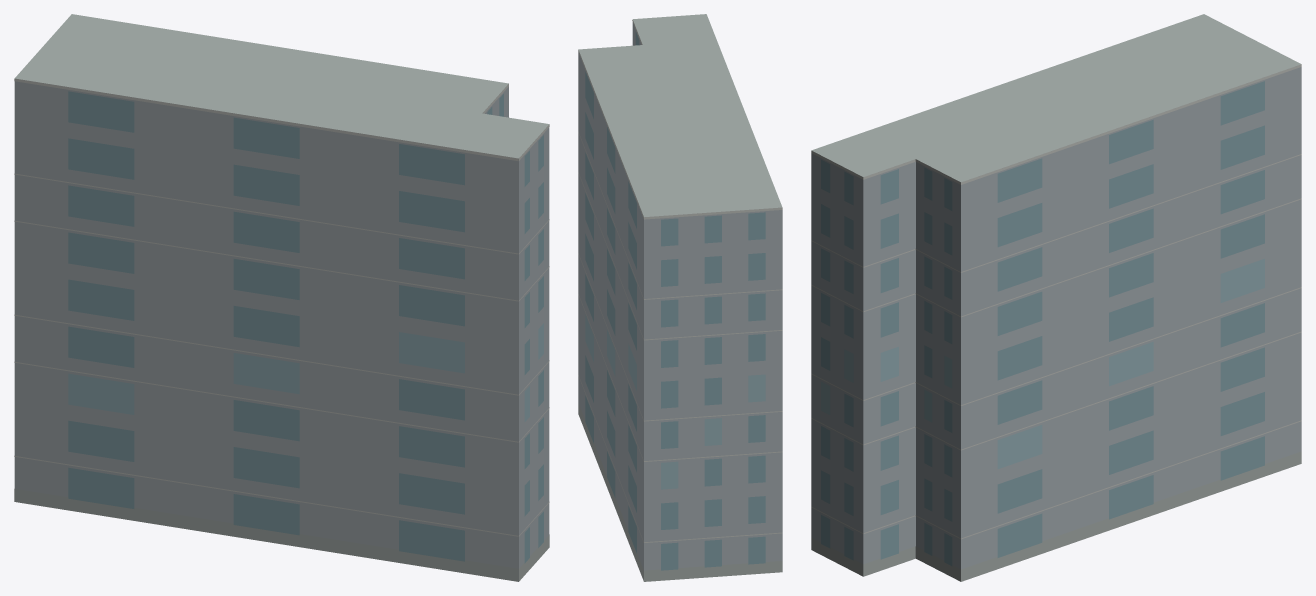
The model's file is residential-20e29a8e-cfb6-4a9a-b1a4-b8a1e3995ba8.glb.
3 views of the same model, side by side, from view 1: azimuth 30°, elevation 25°; view 2: azimuth 150°, elevation 25°; view 3: azimuth 270°, elevation 25° (orthographic). The views are drawn at different scales.
Visible parts, largest first — view 1: residential-20e29a8e-cfb6-4a9a-b1a4-b8a1e3995ba8.tmp; view 2: residential-20e29a8e-cfb6-4a9a-b1a4-b8a1e3995ba8.tmp; view 3: residential-20e29a8e-cfb6-4a9a-b1a4-b8a1e3995ba8.tmp.
Part boxes in pixels (bbox=[...]): residential-20e29a8e-cfb6-4a9a-b1a4-b8a1e3995ba8.tmp: bbox=[14, 14, 549, 581]; residential-20e29a8e-cfb6-4a9a-b1a4-b8a1e3995ba8.tmp: bbox=[578, 14, 782, 581]; residential-20e29a8e-cfb6-4a9a-b1a4-b8a1e3995ba8.tmp: bbox=[811, 14, 1301, 581].
Bounding box in the file's own units: 33.46 × 37 × 41.18.
